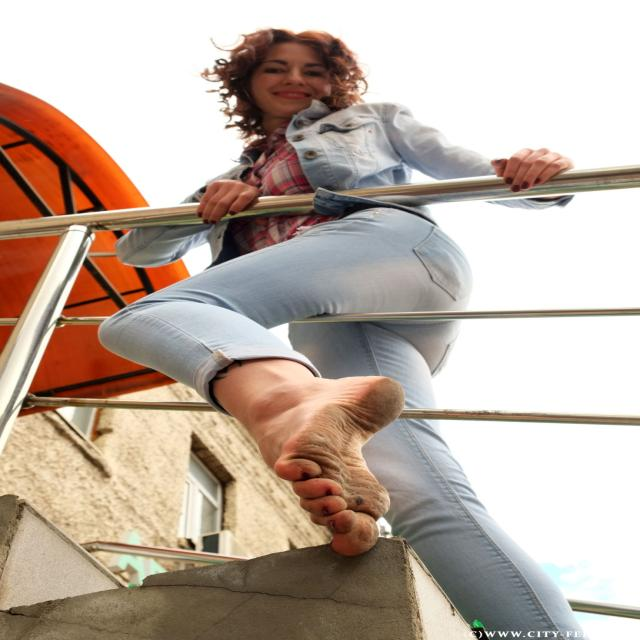Barefoots: (274, 376, 406, 555)
